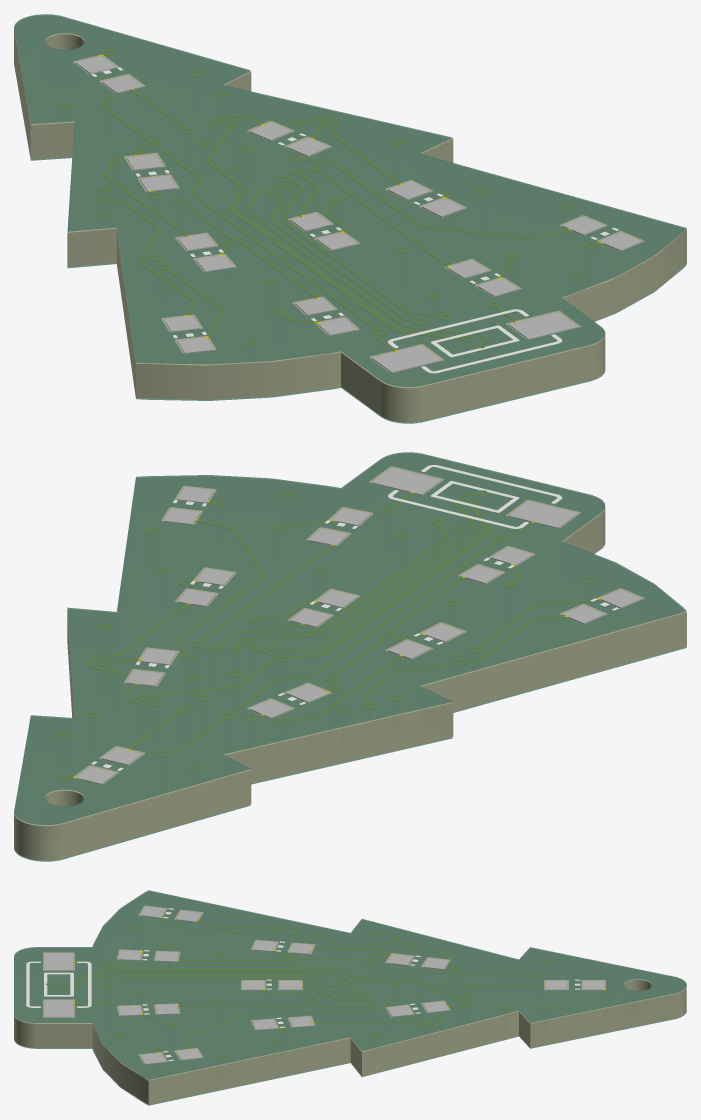
The model's file is xmas-id-badge-flair.glb.
3 renders of one model, top to bottom at view 1: azimuth 30°, elevation 25°; view 2: azimuth 150°, elevation 25°; view 3: azimuth 270°, elevation 25°, orthographic. The views are drawn at different scales.
Parts seen in each view (by area): view 1: =>[0:1:1:9], =>[0:1:1:7], =>[0:1:1:2], =>[0:1:1:5]; view 2: =>[0:1:1:9], =>[0:1:1:7], =>[0:1:1:2], =>[0:1:1:5]; view 3: =>[0:1:1:9], =>[0:1:1:7], =>[0:1:1:2], =>[0:1:1:5].
Boxes of the visible parts, left/top/right/bottom form: =>[0:1:1:9]: left=14, top=16, right=686, bottom=422; =>[0:1:1:7]: left=14, top=14, right=686, bottom=423; =>[0:1:1:2]: left=57, top=49, right=641, bottom=372; =>[0:1:1:5]: left=91, top=67, right=618, bottom=373; =>[0:1:1:9]: left=14, top=454, right=686, bottom=860; =>[0:1:1:7]: left=14, top=452, right=686, bottom=861; =>[0:1:1:2]: left=57, top=468, right=641, bottom=784; =>[0:1:1:5]: left=91, top=465, right=618, bottom=770; =>[0:1:1:9]: left=14, top=891, right=686, bottom=1104; =>[0:1:1:7]: left=14, top=890, right=686, bottom=1105; =>[0:1:1:2]: left=44, top=906, right=611, bottom=1064; =>[0:1:1:5]: left=26, top=908, right=580, bottom=1061.
Bounding box in the file's own units: 0.0254 × 0.00166 × 0.0381.
Materials: 4 (4 with a texture image).
